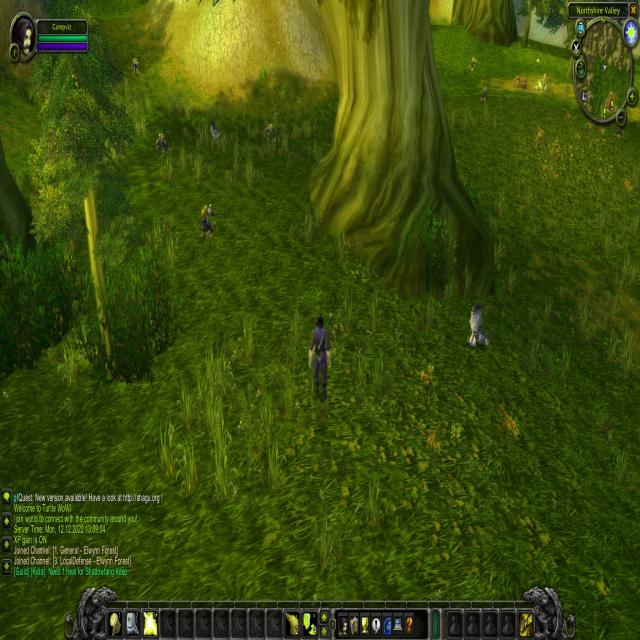wolf: (462, 296, 492, 358), (208, 116, 223, 144)
